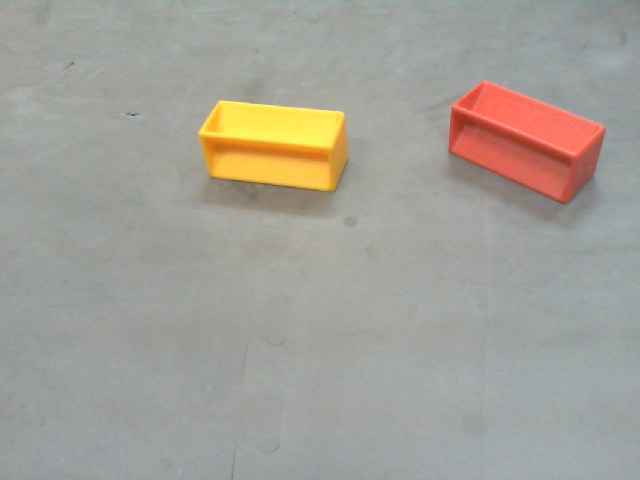RedSample: (446, 80, 600, 205)
YellowSample: (197, 97, 350, 192)
